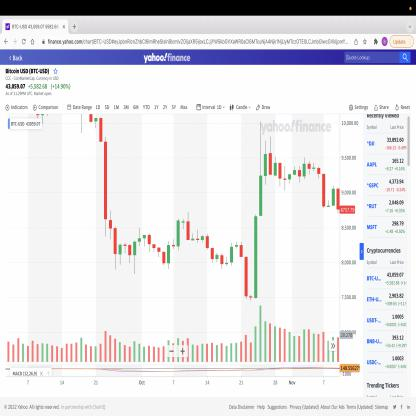Bearish: 3 Black Crows: (103, 135, 118, 275), (98, 116, 113, 242)
Bullish: 3 White Soldiers: (253, 119, 268, 300)
Bullish: Inverted Hammer: (321, 171, 336, 210)
Bullish: Morning Star Doji: (244, 211, 258, 304)
